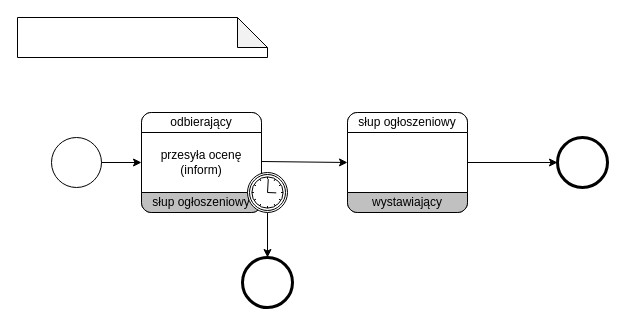
Some shapes in this 625 by 325 pixel diagram are drawn without their labels. Here are the shapes that lost their labels. From the top down, the centre of each, then its label:
(x=142, y=37): wystawienie oceny
(x=407, y=162): informuje o wystawieniu oceny (inform)
(x=267, y=192): 24h
